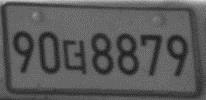0: (37, 31, 61, 74)
7: (140, 33, 162, 77)
8: (115, 32, 140, 76), (91, 31, 114, 74)
9: (165, 33, 190, 77), (11, 30, 35, 73)
더: (62, 38, 88, 75)
